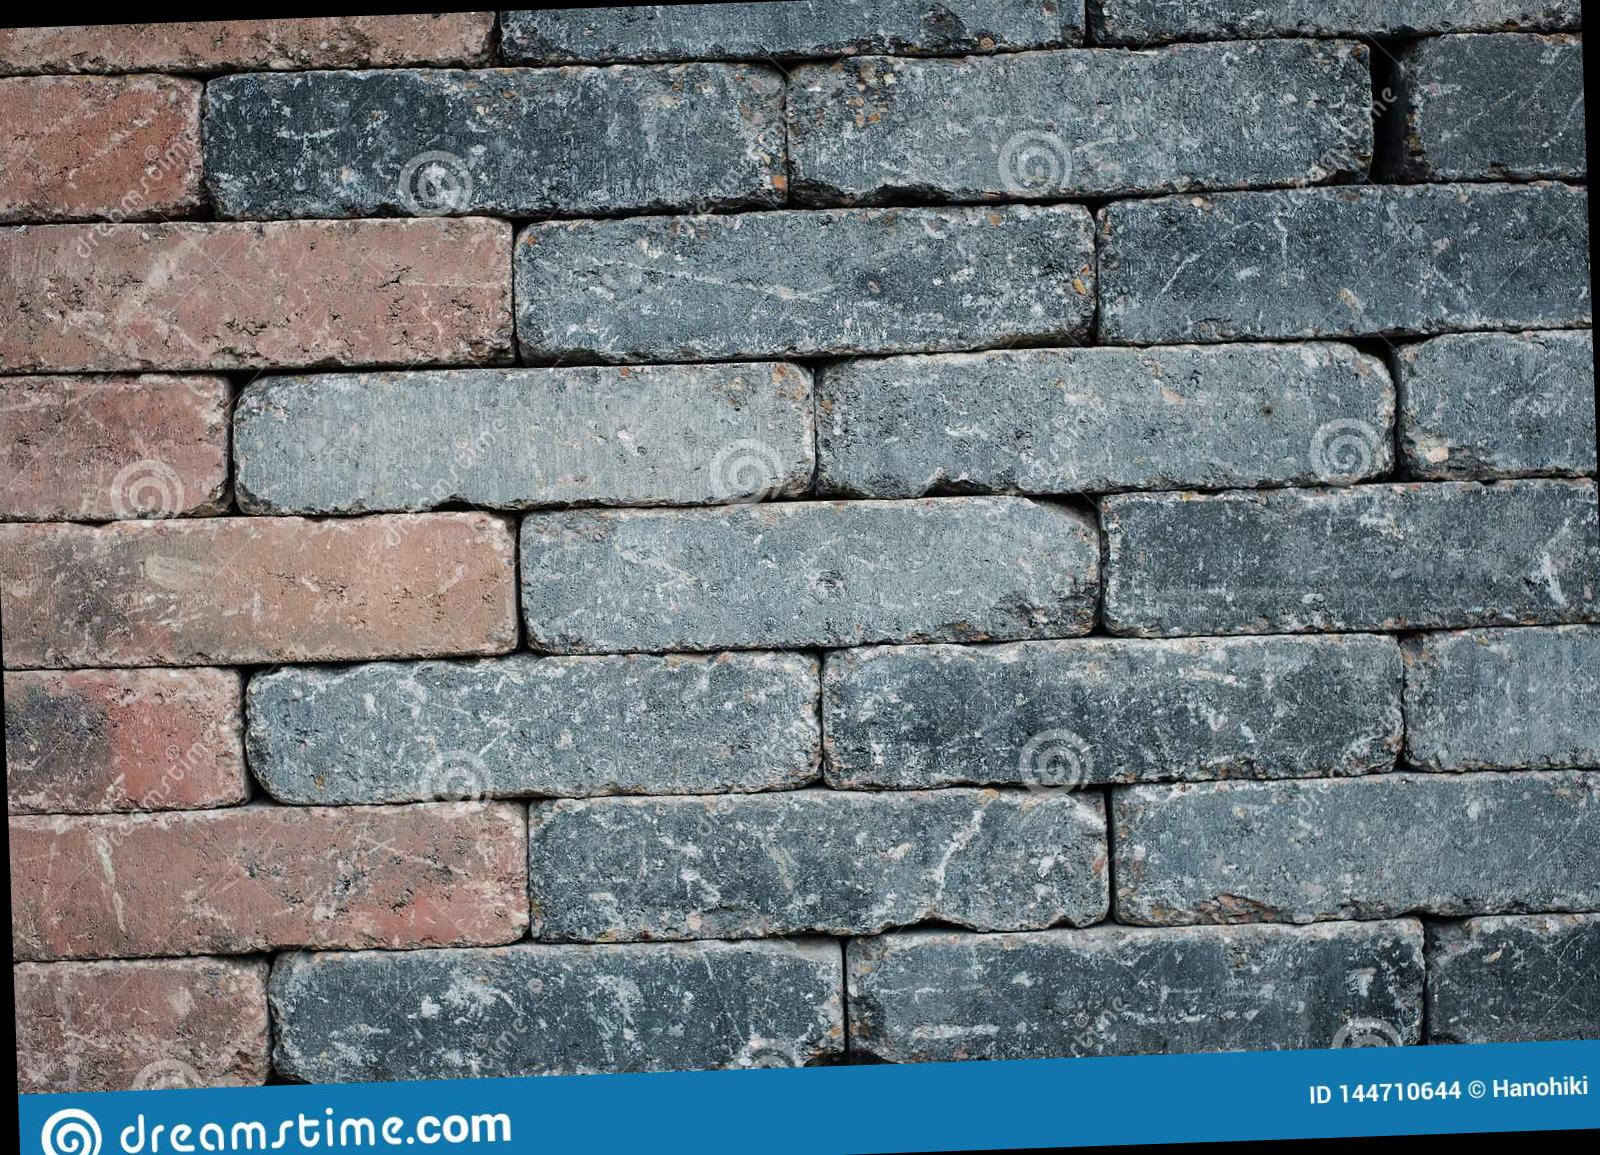brick: (783, 34, 1373, 206), (204, 53, 788, 224), (525, 777, 1113, 945), (512, 199, 1098, 365), (819, 625, 1406, 790), (815, 337, 1398, 503), (230, 358, 817, 519), (519, 492, 1102, 654), (245, 648, 821, 807), (268, 931, 845, 1083), (0, 207, 513, 378), (846, 917, 1426, 1066), (7, 797, 530, 962), (0, 507, 517, 669), (1092, 178, 1591, 345), (1101, 474, 1600, 637), (1113, 765, 1600, 926), (2, 664, 246, 815), (12, 955, 272, 1093), (0, 369, 230, 524), (0, 66, 207, 224), (1399, 327, 1598, 479), (1405, 622, 1600, 772), (1400, 29, 1586, 181), (1425, 912, 1600, 1044)
